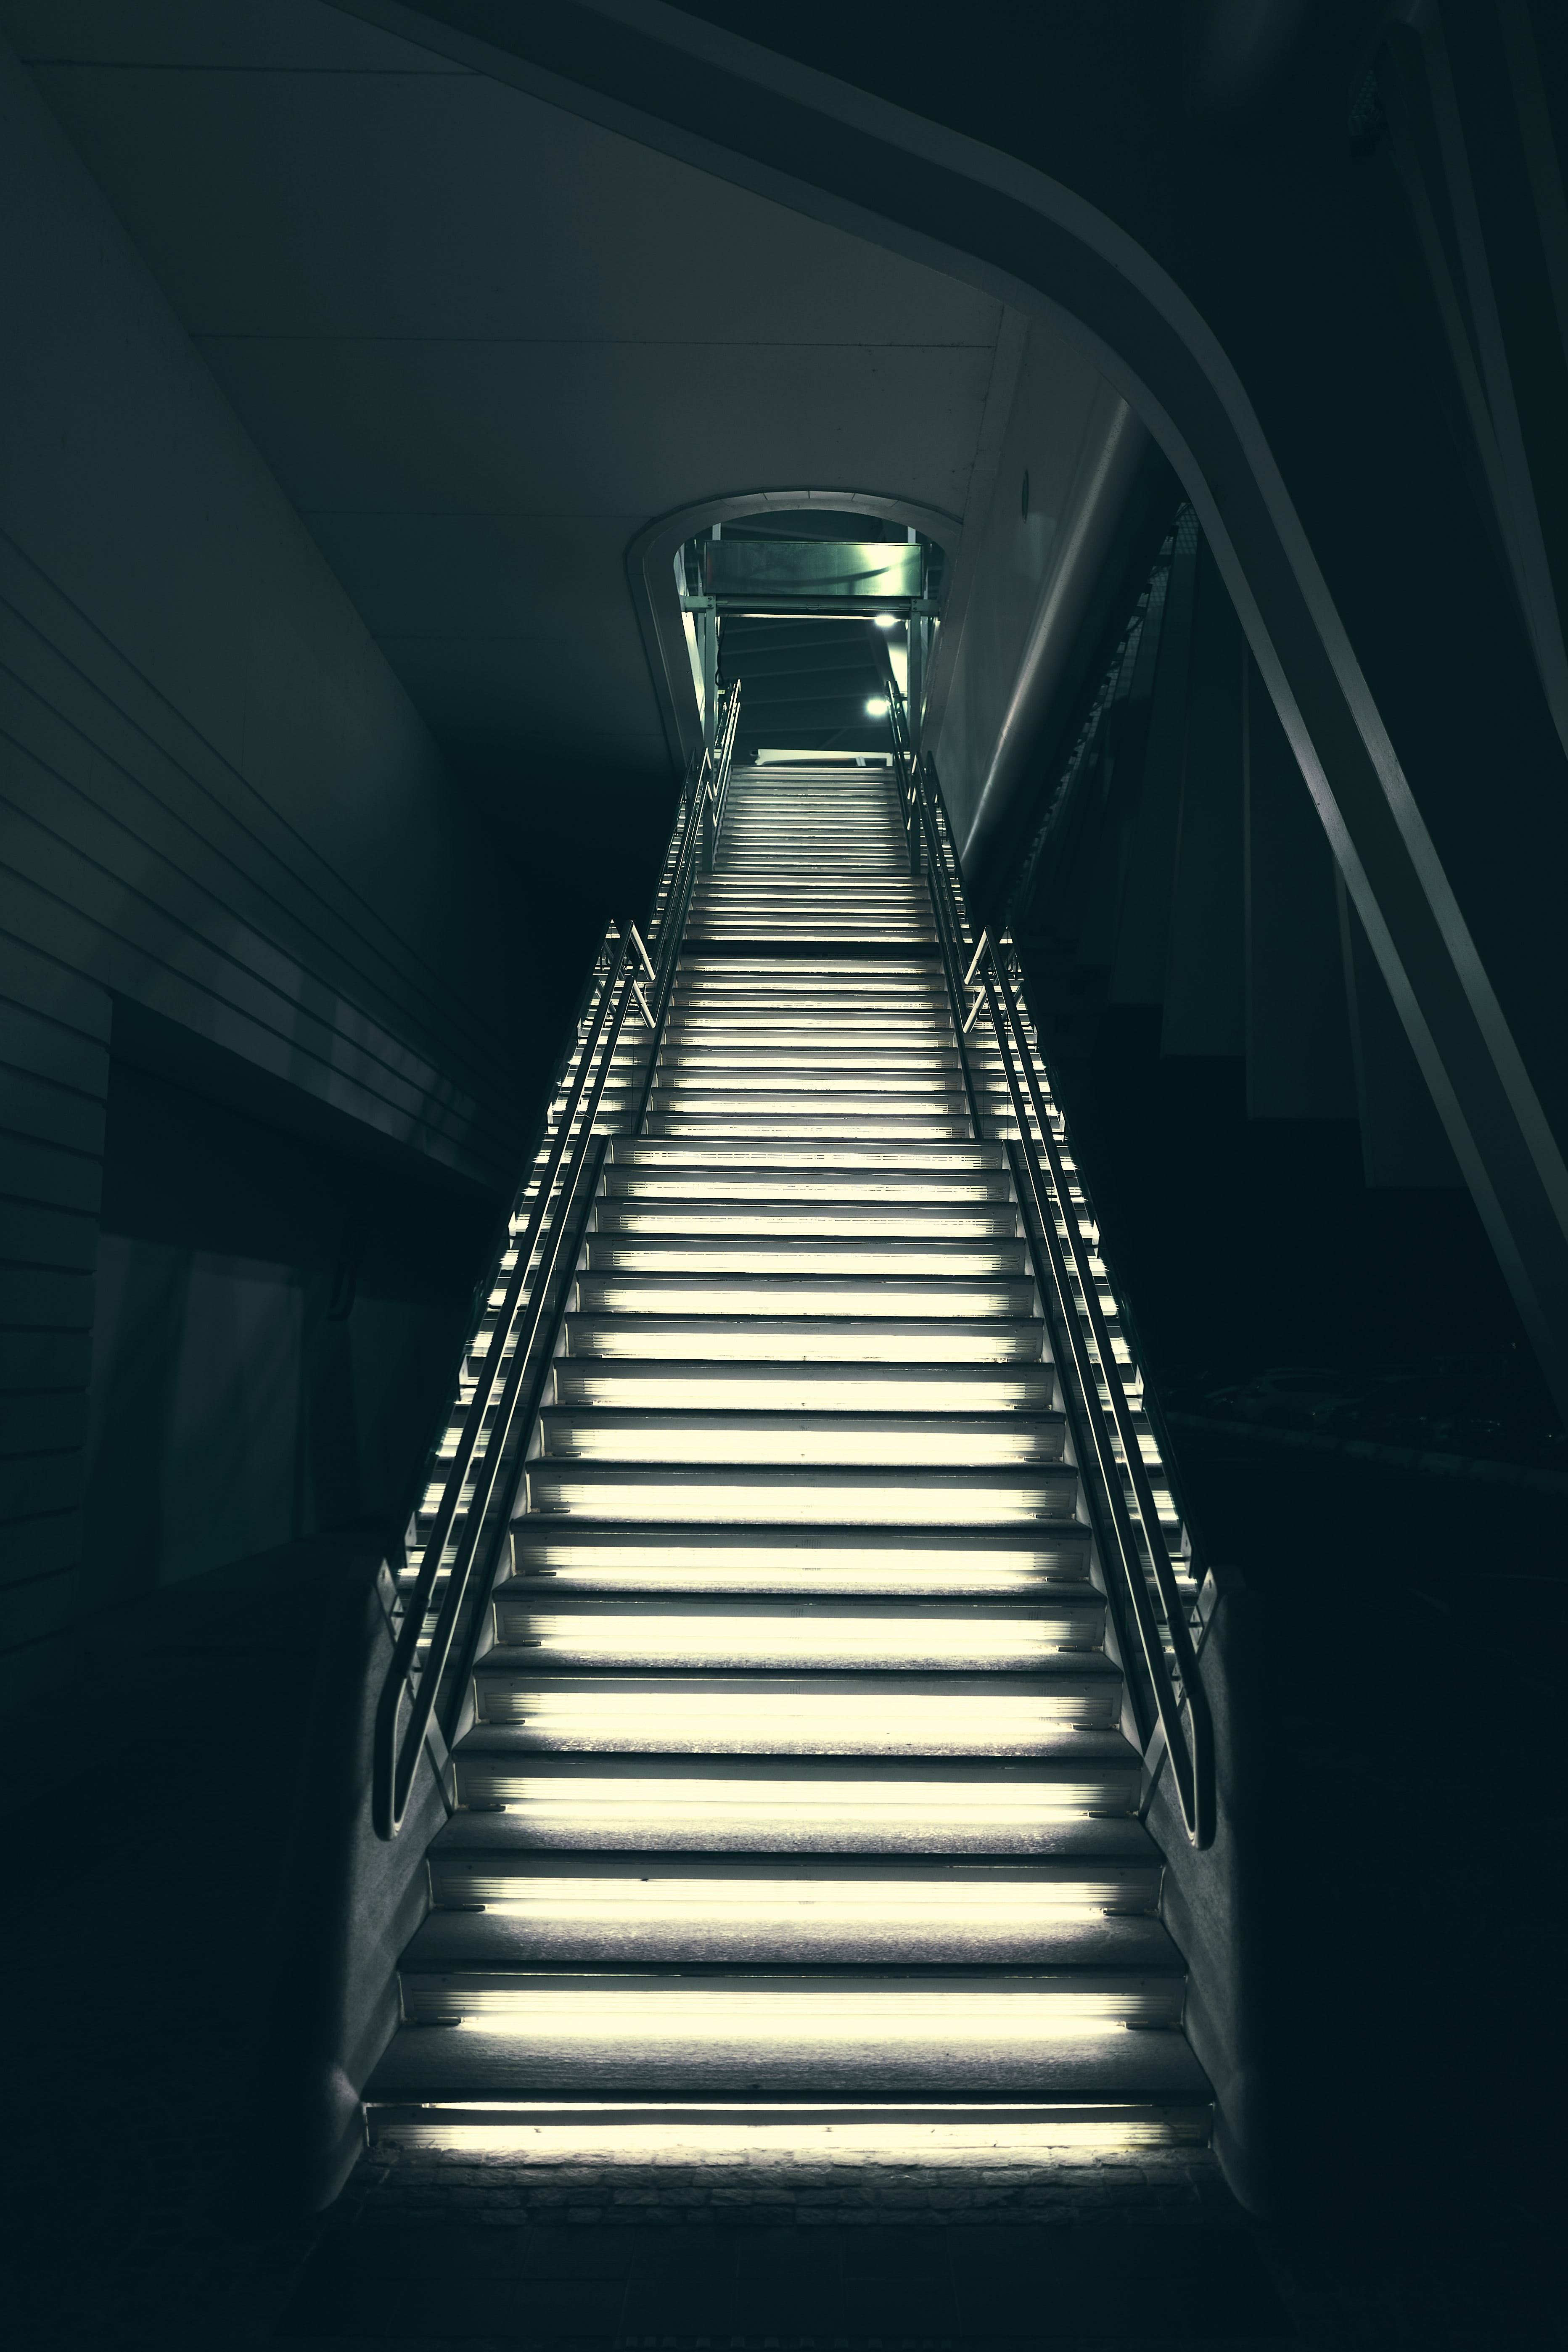upstairs: (535, 1418, 1067, 2205)
